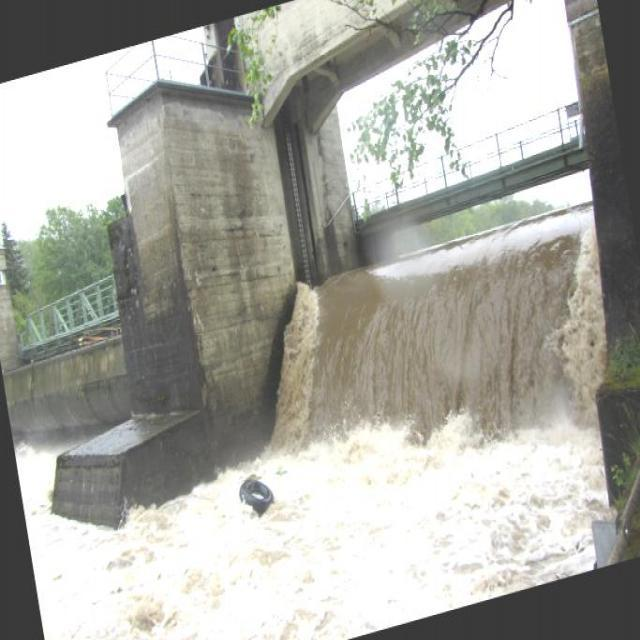flood: (0, 194, 639, 639)
